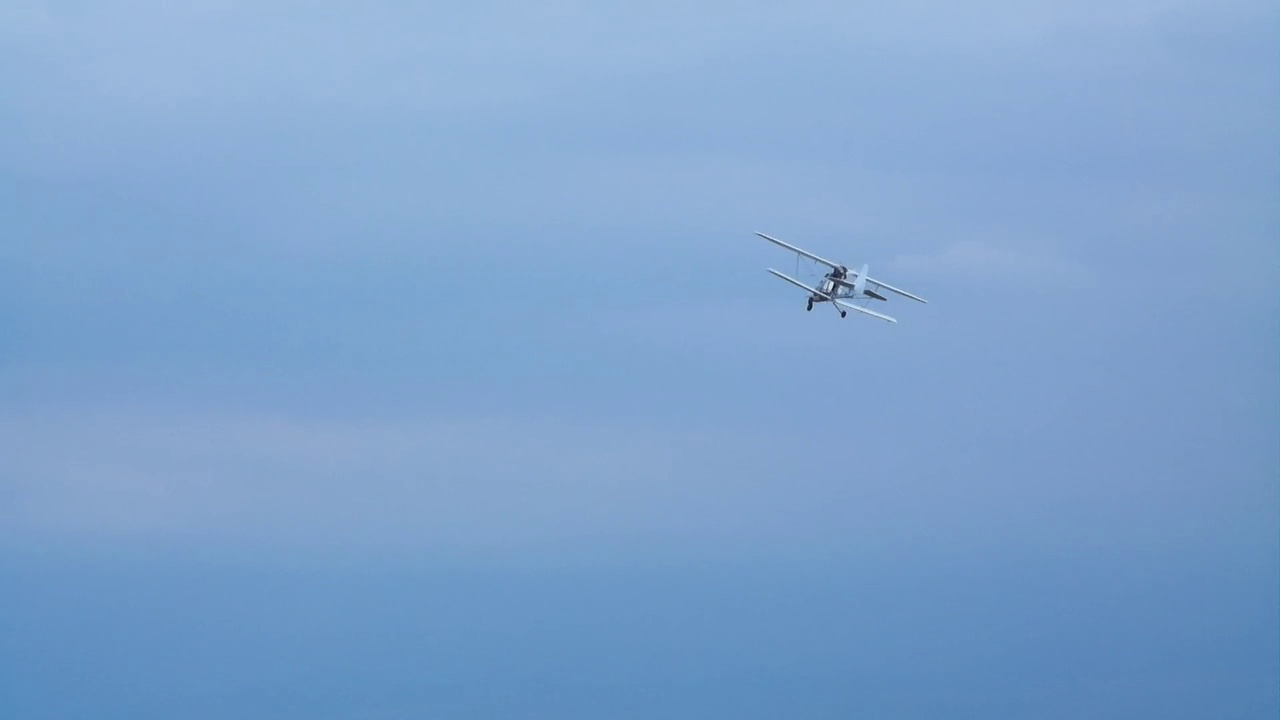plane: (756, 229, 928, 326)
